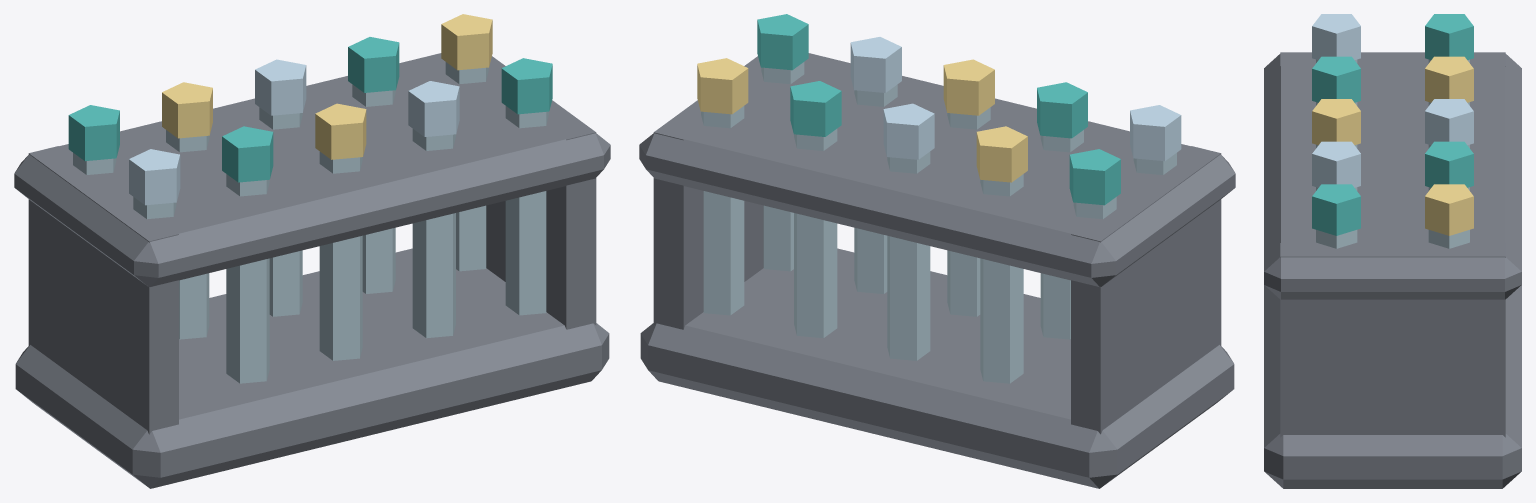
Rendered from medical-23623.glb.
3 views of the same model, side by side, from view 1: azimuth 30°, elevation 25°; view 2: azimuth 150°, elevation 25°; view 3: azimuth 270°, elevation 25° (orthographic). The views are drawn at different scales.
Visible parts, largest first — view 1: sample-rack; view 2: sample-rack; view 3: sample-rack.
Part boxes in pixels (x1,y1,x2,y2): sample-rack: (14, 14, 610, 488); sample-rack: (639, 14, 1235, 488); sample-rack: (1264, 14, 1521, 488).
Bounding box in the file's own units: 0.32 × 0.192 × 0.16.
